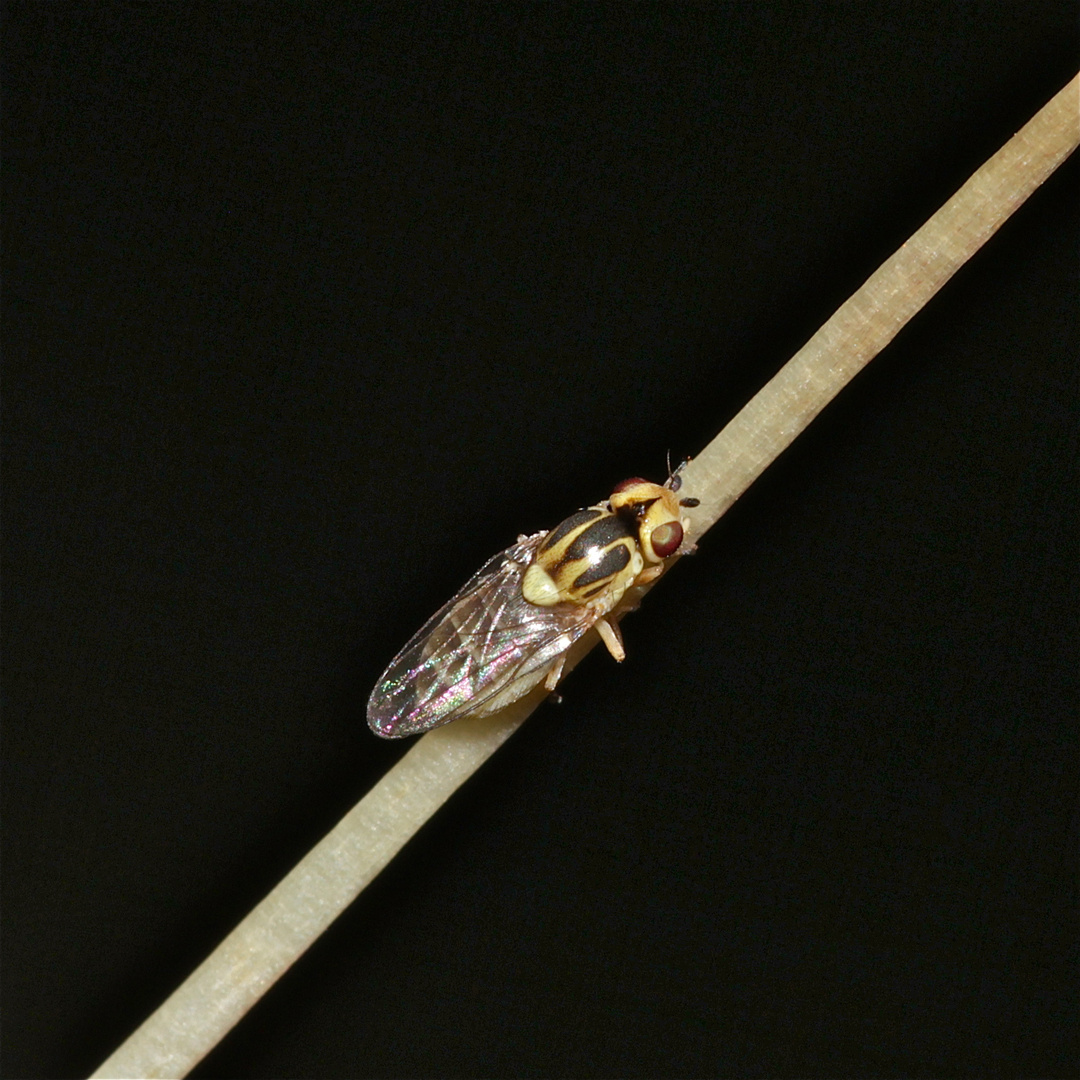Chloropidae: (355, 451, 721, 753)
